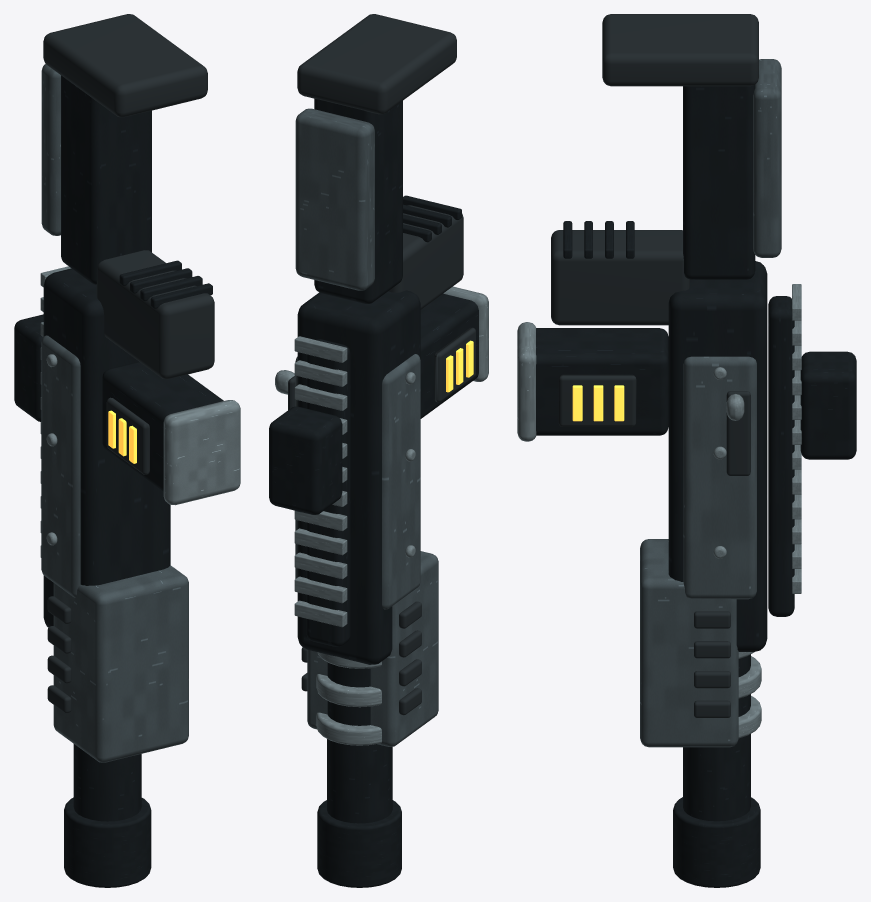
File: nightguard_rifle.glb
3 views of the same model, side by side, from view 1: azimuth 30°, elevation 25°; view 2: azimuth 150°, elevation 25°; view 3: azimuth 270°, elevation 25° (orthographic). The views are drawn at different scales.
Parts seen in each view (by area): view 1: Chamfered upper receiver, Adjustable cheek rest, Bolt access inset, Barrel cooling ring, Energy charge indicator; view 2: Chamfered upper receiver, Adjustable cheek rest, Bolt access inset, Barrel cooling ring, Energy charge indicator; view 3: Chamfered upper receiver, Adjustable cheek rest, Bolt access inset, Barrel cooling ring, Energy charge indicator.
Part boxes in pixels (left/top/right/bottom): Chamfered upper receiver: left=14, top=75, right=223, bottom=887; Adjustable cheek rest: left=41, top=64, right=188, bottom=762; Bolt access inset: left=43, top=14, right=214, bottom=713; Barrel cooling ring: left=40, top=266, right=240, bottom=557; Energy charge indicator: left=108, top=410, right=136, bottom=463; Chamfered upper receiver: left=269, top=98, right=478, bottom=887; Adjustable cheek rest: left=295, top=108, right=438, bottom=746; Bolt access inset: left=288, top=14, right=475, bottom=715; Barrel cooling ring: left=275, top=286, right=488, bottom=745; Energy charge indicator: left=446, top=340, right=473, bottom=392; Chamfered upper receiver: left=536, top=85, right=856, bottom=887; Adjustable cheek rest: left=640, top=59, right=781, bottom=747; Bolt access inset: left=551, top=14, right=758, bottom=717; Barrel cooling ring: left=517, top=284, right=801, bottom=738; Energy charge indicator: left=572, top=385, right=624, bottom=421.
Size of the model in its own units: 0.1415 by 0.8505 by 0.3095.
6 materials, 3 textured.
